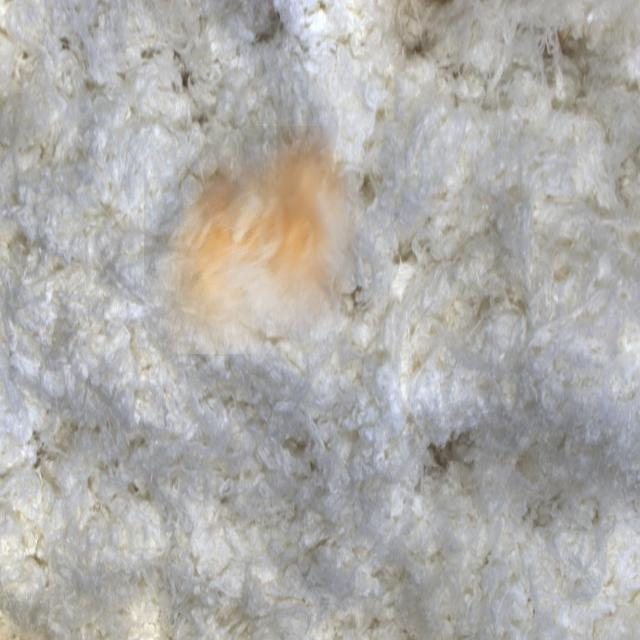dust: (144, 126, 359, 354)
